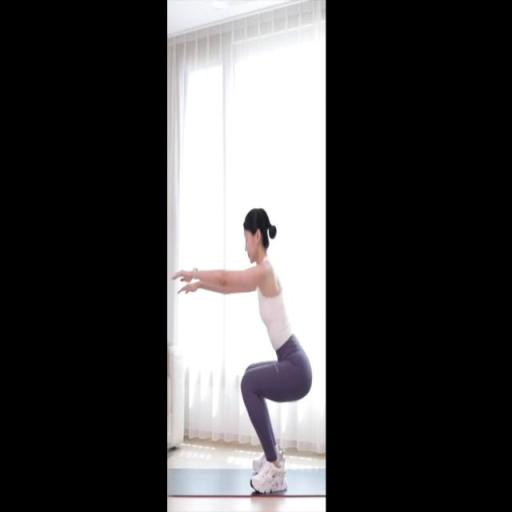Normal_BrenchPress: (170, 207, 313, 496)
